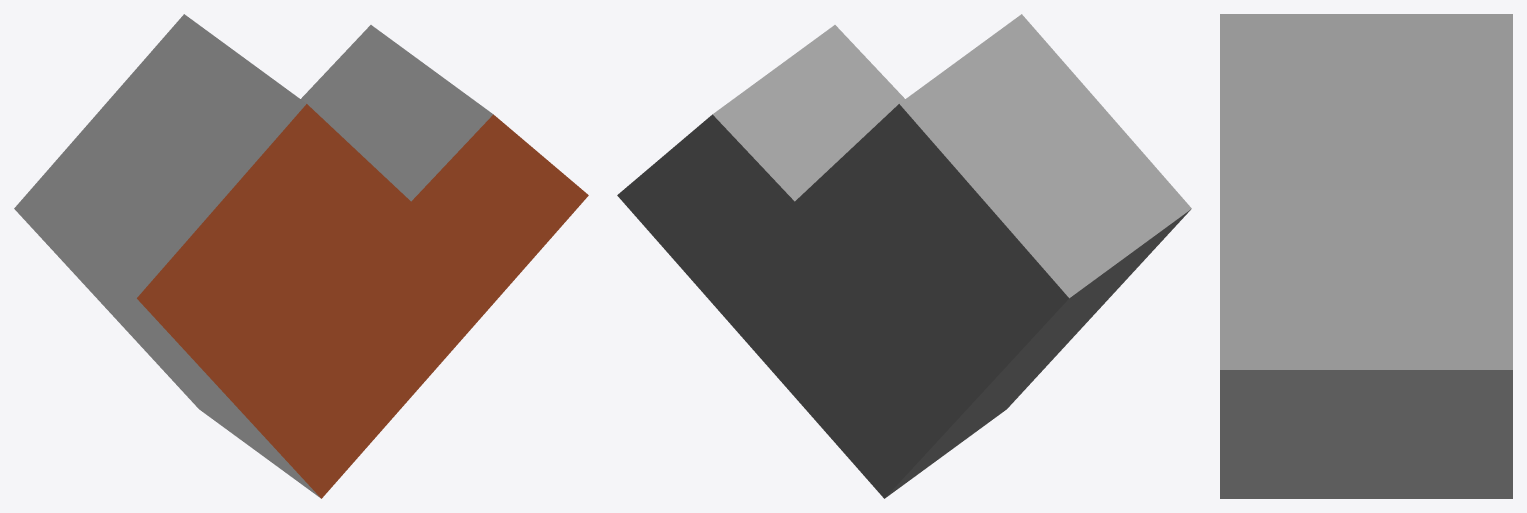
File: construction_1620_assumed_A_Casa_h6m.obj
3 views of the same model, side by side, from view 1: azimuth 30°, elevation 25°; view 2: azimuth 150°, elevation 25°; view 3: azimuth 270°, elevation 25° (orthographic). The views are drawn at different scales.
Visible parts, largest first — view 1: construction_1620_assumed_A_Casa; view 2: construction_1620_assumed_A_Casa; view 3: construction_1620_assumed_A_Casa.
Boxes of the visible parts, <box> form: construction_1620_assumed_A_Casa: <box>14,14,588,498</box>; construction_1620_assumed_A_Casa: <box>617,14,1191,498</box>; construction_1620_assumed_A_Casa: <box>1220,14,1512,498</box>.
Bounding box in the file's own units: 12.78 × 10.77 × 6.
